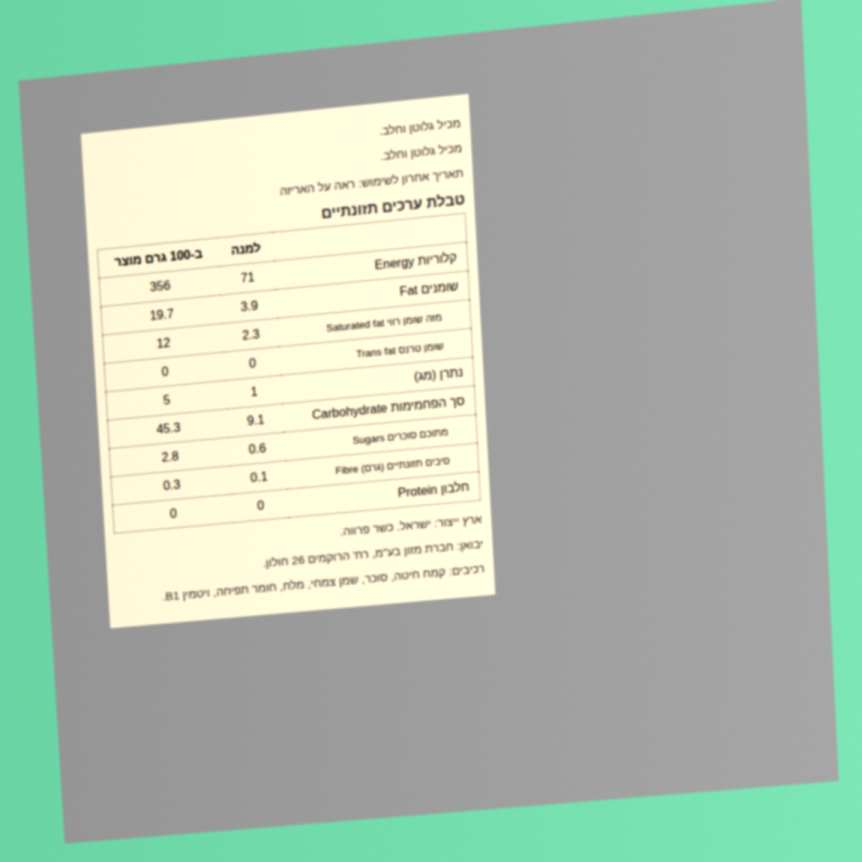carbs: (154, 419, 183, 438)
energy: (148, 277, 173, 296)
fat: (148, 305, 176, 324)
protein: (168, 505, 179, 522)
